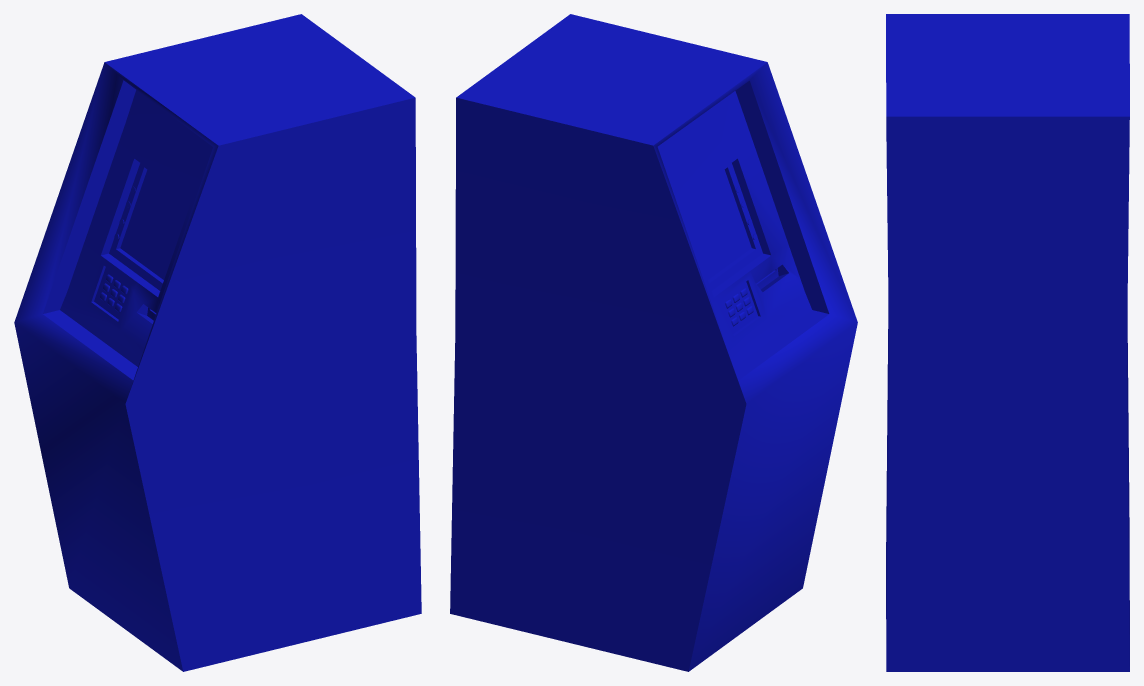
Rendered from ATM.fbx.
3 renders of one model, left to right at view 1: azimuth 30°, elevation 25°; view 2: azimuth 150°, elevation 25°; view 3: azimuth 270°, elevation 25°, orthographic. The views are drawn at different scales.
Parts seen in each view (by area): view 1: ATM; view 2: ATM; view 3: ATM.
Boxes of the visible parts, x1,y1,x2,y2 form: ATM: (14,14,421,671); ATM: (450,14,857,671); ATM: (886,14,1129,671).
Bounding box in the file's own units: 45.56 × 76.41 × 30.57.
